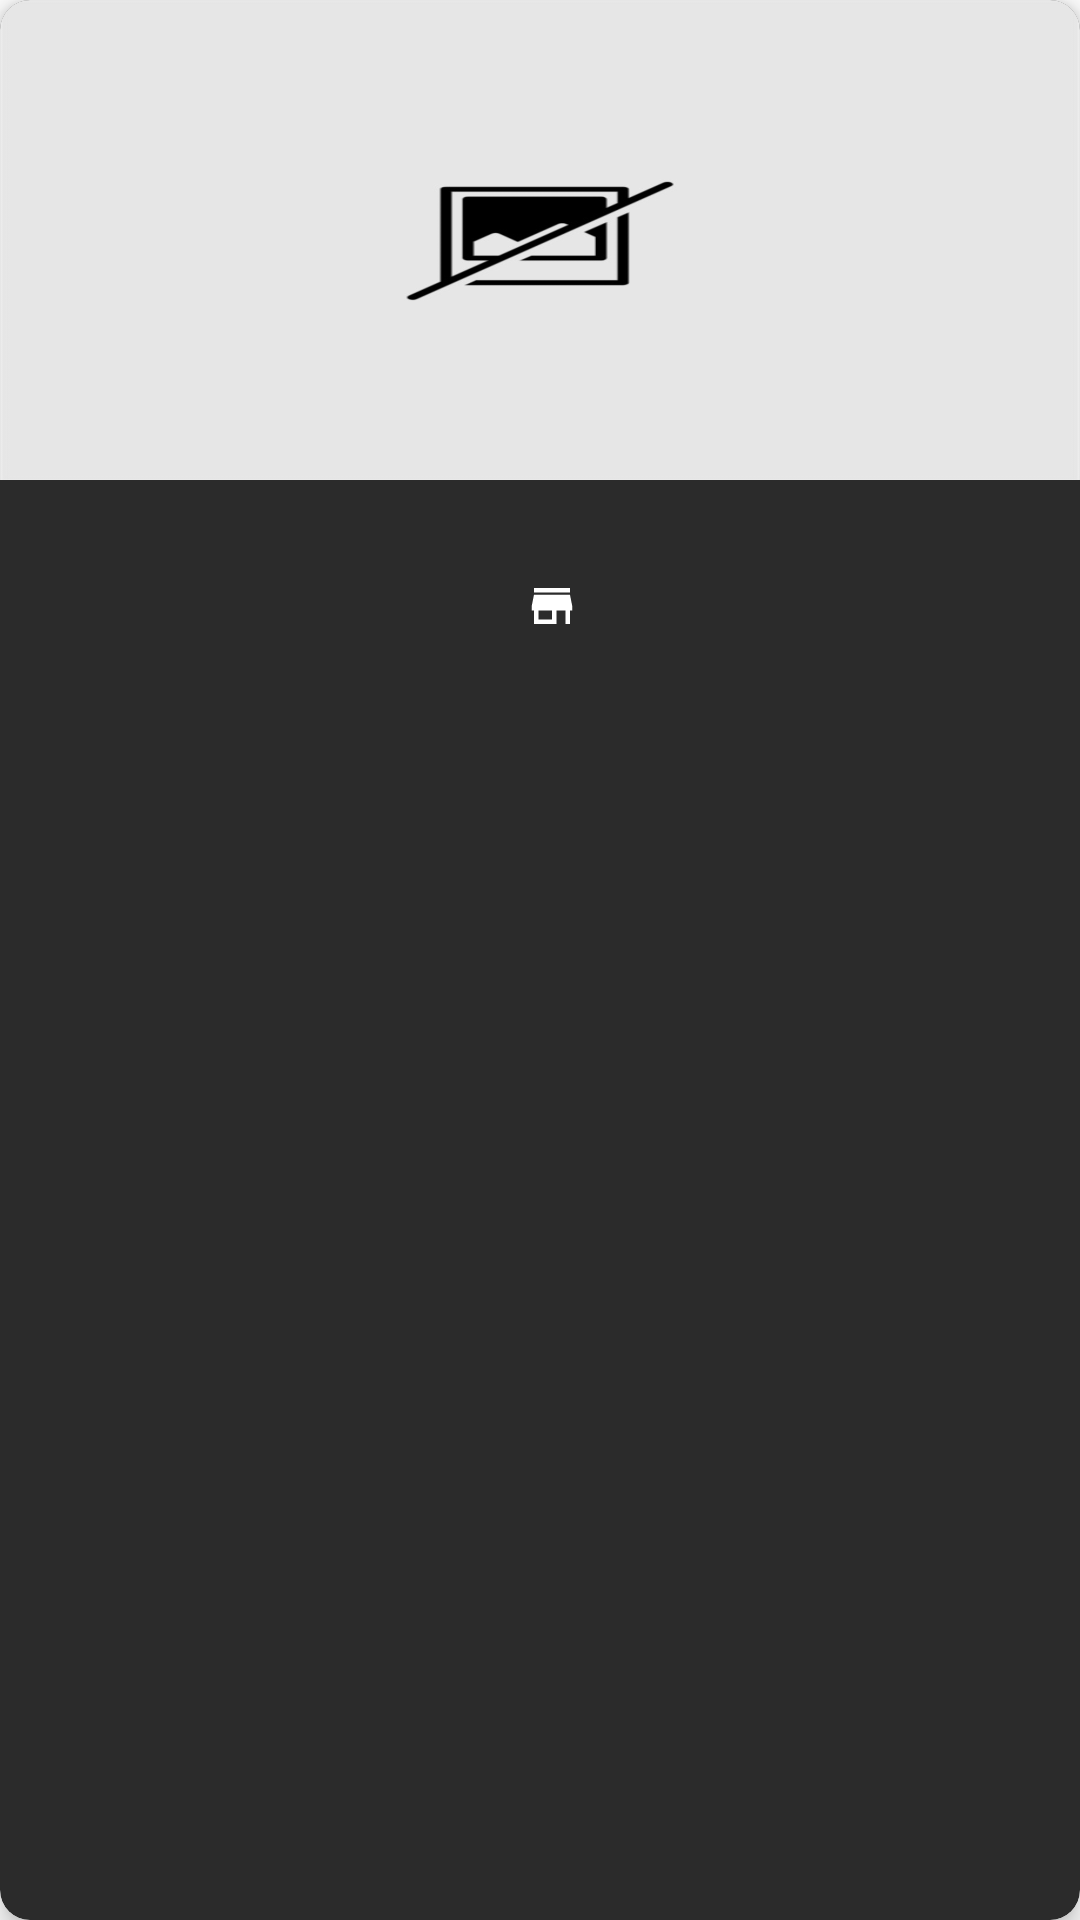

Icons on this 1080 x 1920 Android screen, each with its box as BBox(x1, y1, x2, y2):
store: BBox(531, 588, 573, 624)
